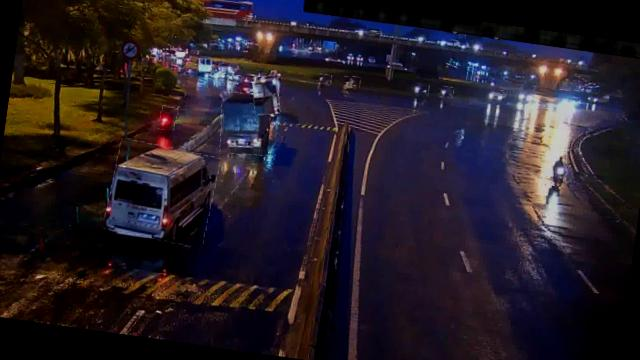Bike: (549, 153, 568, 187), (157, 105, 177, 131), (342, 76, 361, 92), (414, 82, 429, 96), (438, 84, 453, 98), (317, 73, 331, 86)
Bus: (102, 138, 218, 248)
Truck: (216, 88, 274, 158), (248, 74, 282, 118)
